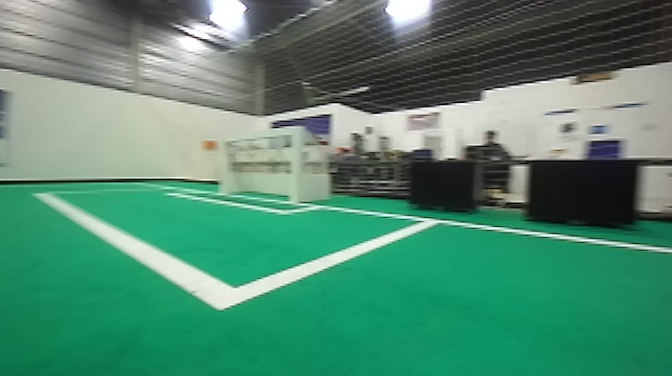goalpost: (282, 129, 306, 208), (214, 134, 233, 198)
